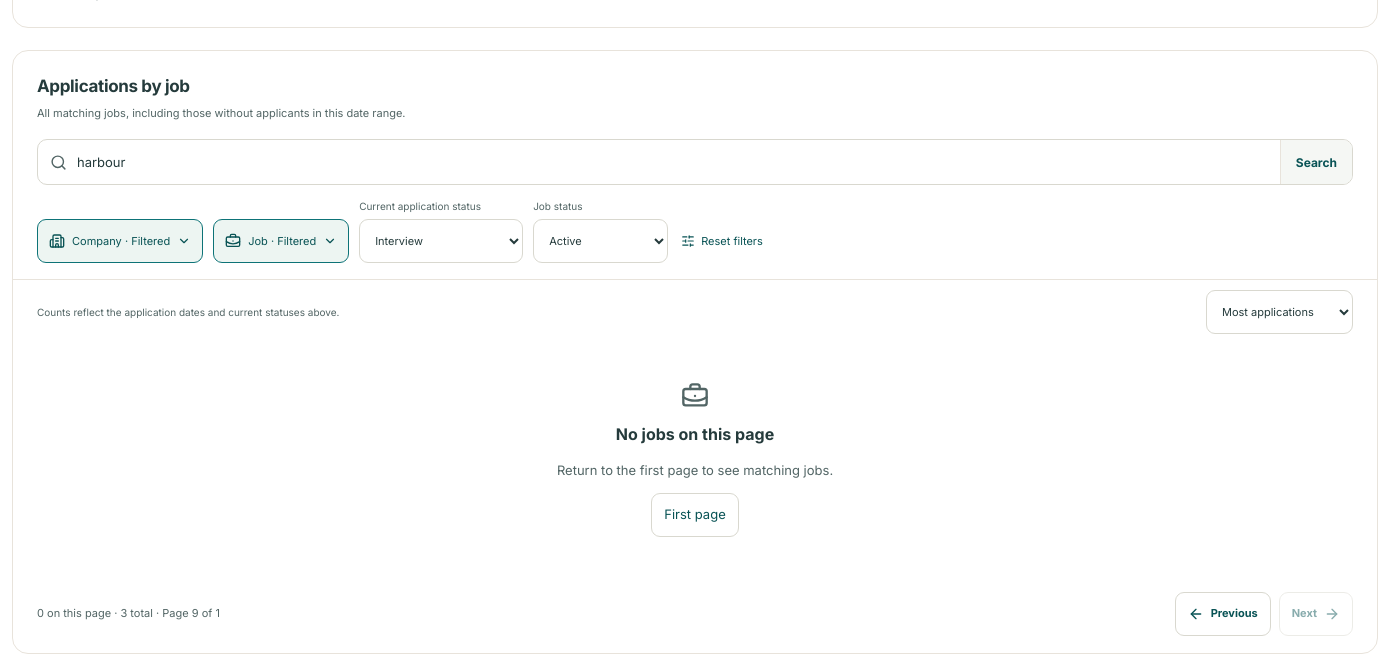
Test case: Applications workspace private reads › recovers an out-of-range jobs page without losing its filters
(page scrolled)
Expected: the heading "No jobs on this page" is shown, [616,422,774,448]
Expected: the button with aria-label "Next page" is disabled, [1279,592,1353,636]
Click the button "First page": x=695, y=515 [651,493,739,537]
(page scrolled)
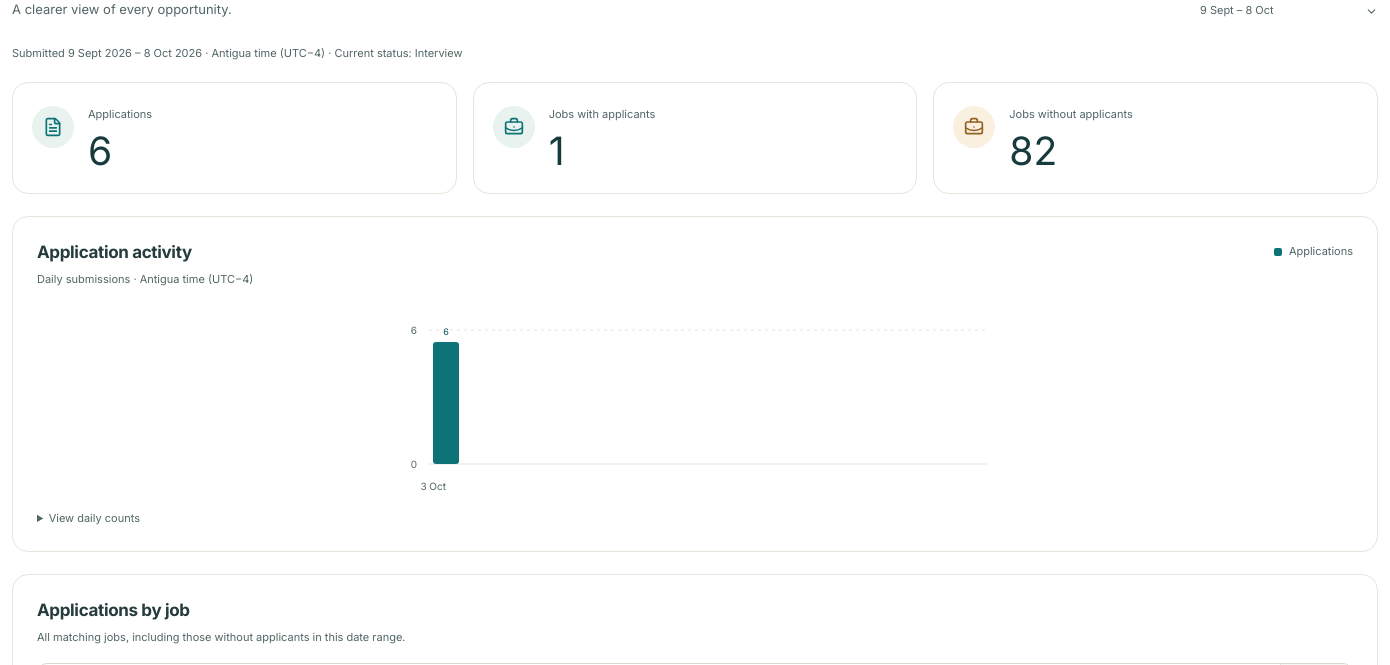
Now the heading "No jobs on this page" is gone
